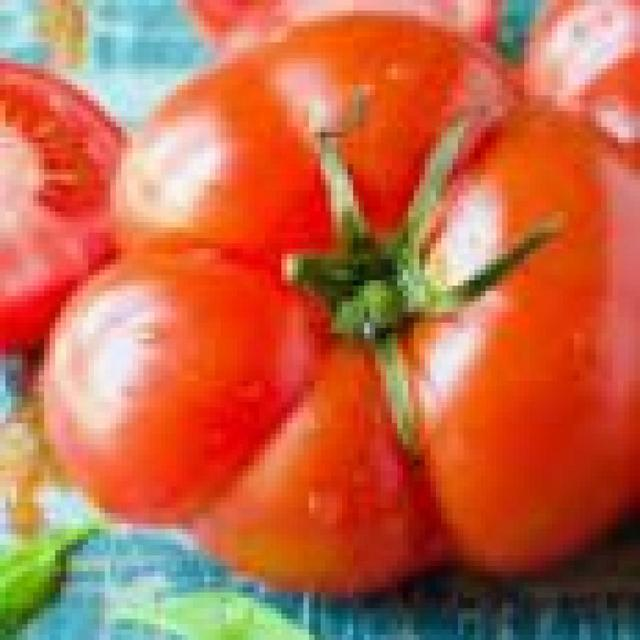Healthy Fruit: (60, 14, 427, 396)
